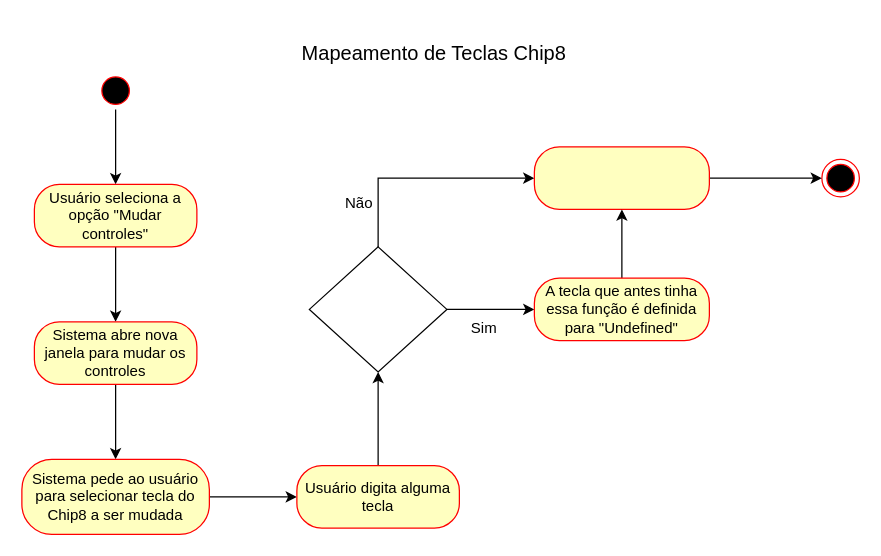
Some shapes in this 881 by 556 pixel diagram are drawn without their labels. Here are the shapes that lost their labels. From the top down, the centre of each, then its label:
(621,177): Sistema salva as novas configurações
(377,309): Tecla já pré-definida?
